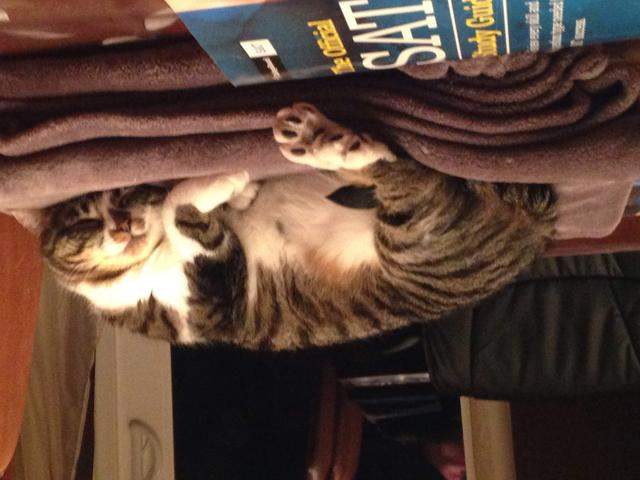playdoh: (6, 100, 556, 349)
